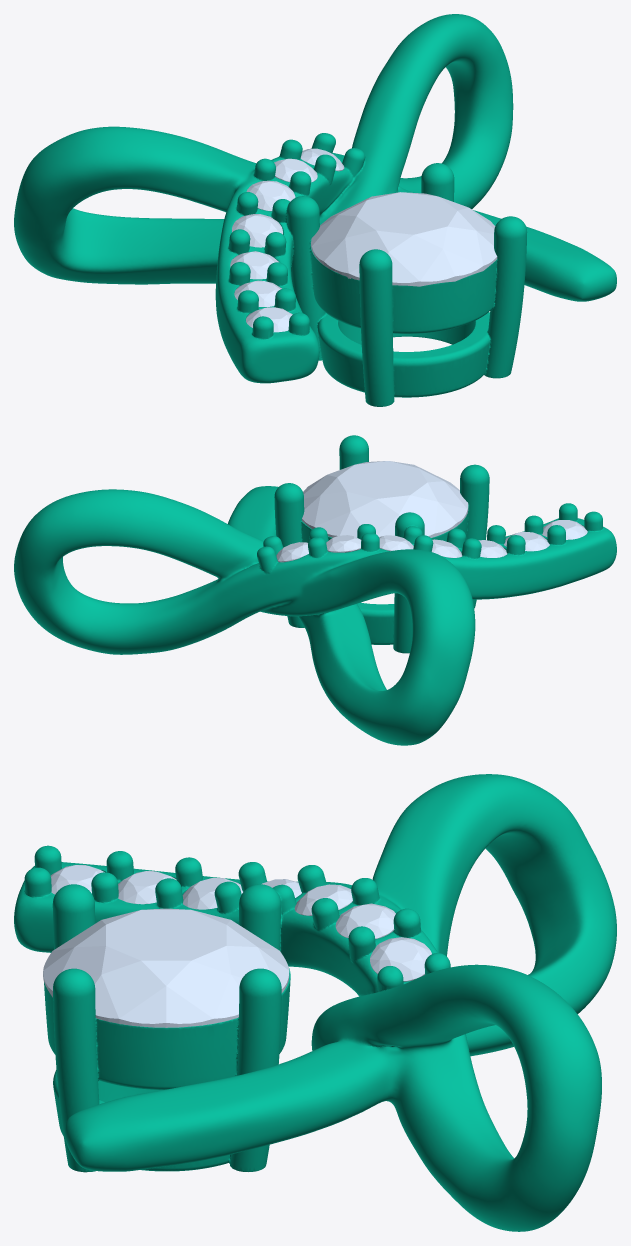
3 renders of one model, top to bottom at view 1: azimuth 30°, elevation 25°; view 2: azimuth 150°, elevation 25°; view 3: azimuth 270°, elevation 25°, orthographic. The views are drawn at different scales.
Visible parts, largest first — view 1: COLOR= MATERIAL=, Diamond_Round (×7); view 2: COLOR= MATERIAL=, Diamond_Round (×6); view 3: COLOR= MATERIAL=, Diamond_Round (×7).
Boxes of the visible parts, left/top/right/bottom form: COLOR= MATERIAL=: left=14, top=14, right=616, bottom=406; Diamond_Round (×7): left=230, top=158, right=497, bottom=332; COLOR= MATERIAL=: left=14, top=435, right=616, bottom=745; Diamond_Round (×6): left=276, top=461, right=587, bottom=562; COLOR= MATERIAL=: left=14, top=774, right=616, bottom=1231; Diamond_Round (×7): left=43, top=865, right=431, bottom=1027.
Bounding box in the file's own units: 2.96 × 1.13 × 2.44.
